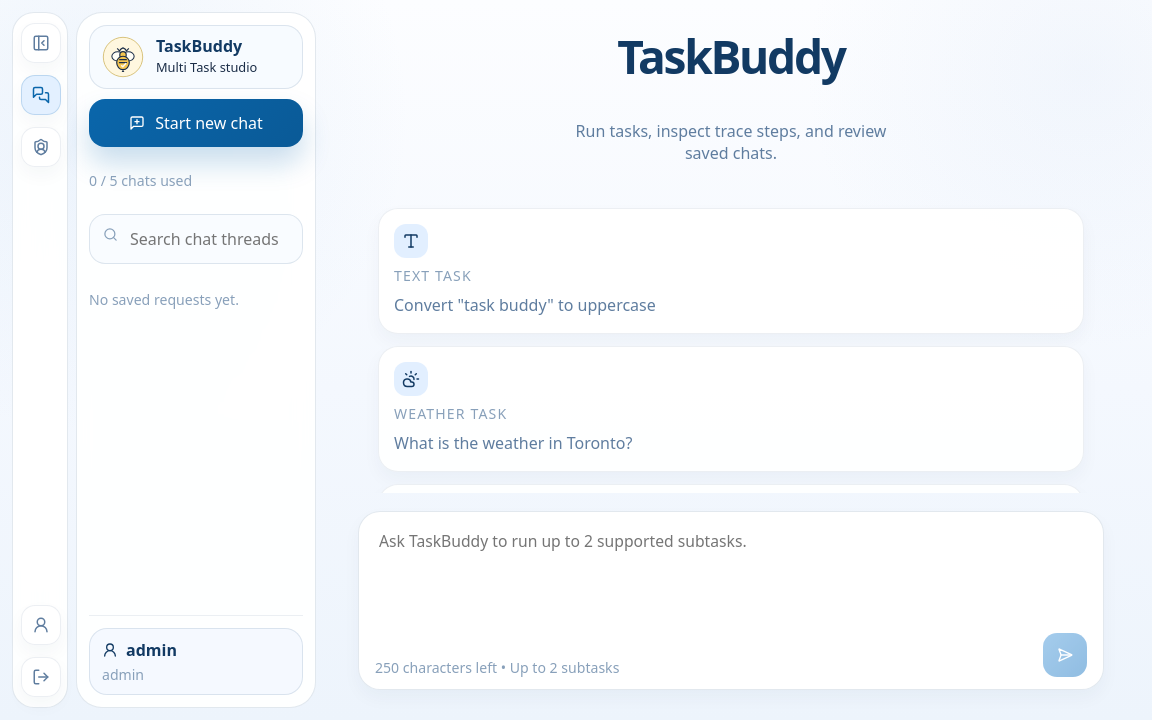
Test: App › falls back to synchronous submission when streaming is unavailable
The width and height of the screenshot is (1152, 720).
Expected: the field with placeholder "Search chat threads" is shown, [89,214,303,264]
Step 1. Click the button "Start new chat" → (196, 123), box [89,99,303,147]
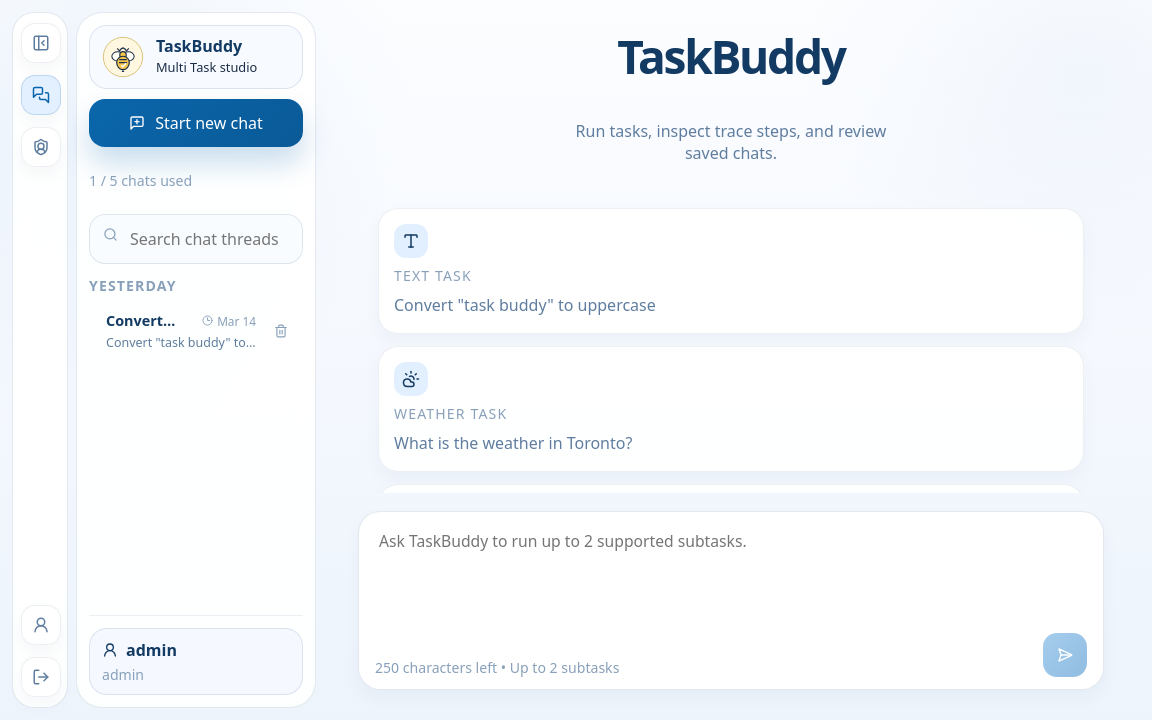
Step 2. Type "Convert \"task buddy\" to uppercase" into the text box with placeholder "Ask TaskBuddy to run up to 2 supported subtasks." → (731, 574), box [375,526,1087,622]
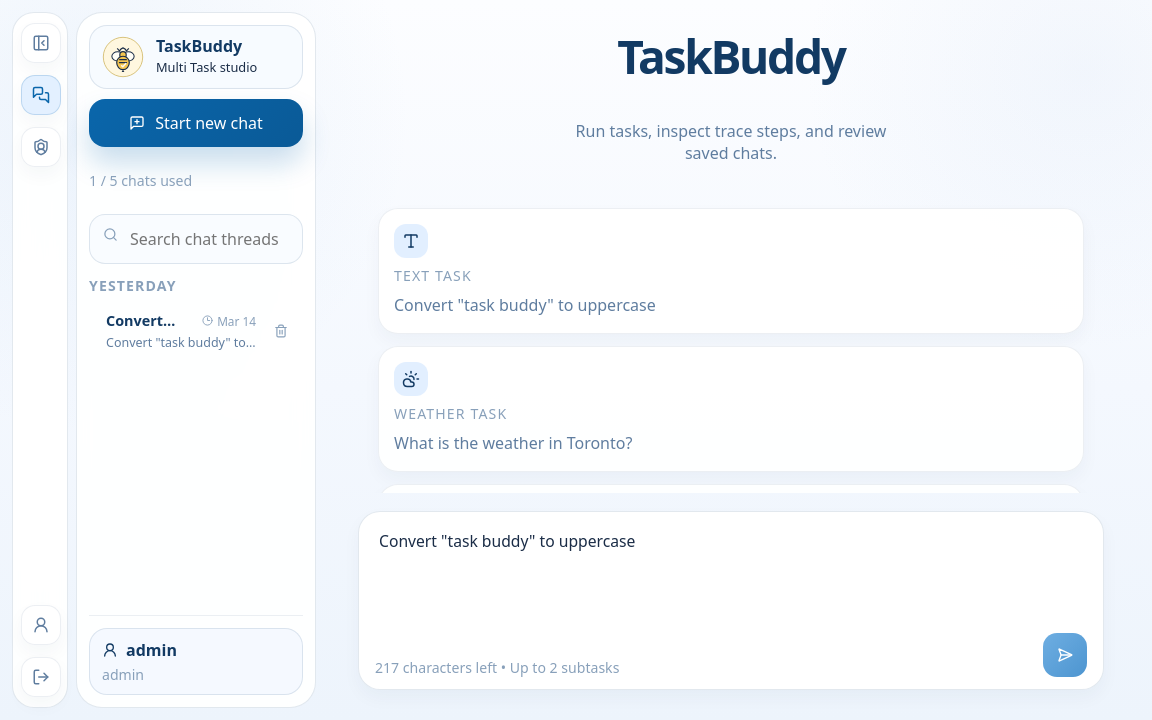
Step 3. Click the button named "Run task" → (1065, 655), box [1043,633,1087,677]
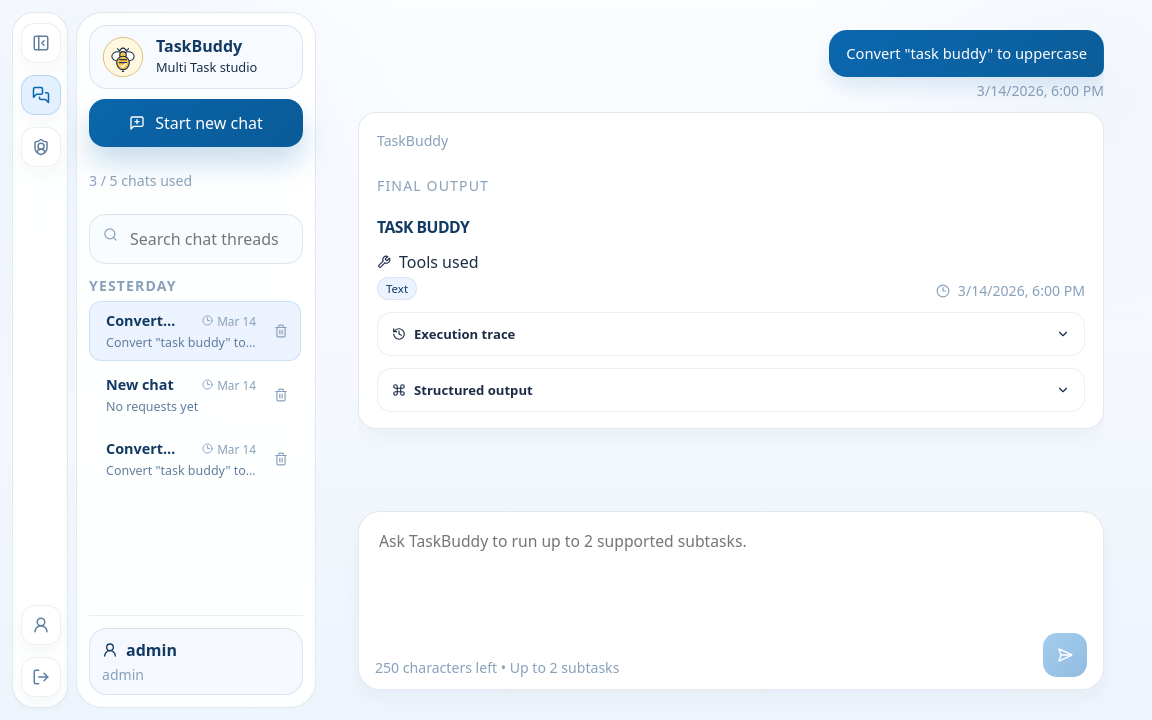
Expected: the heading "TASK BUDDY" is shown, [377,216,469,238]
